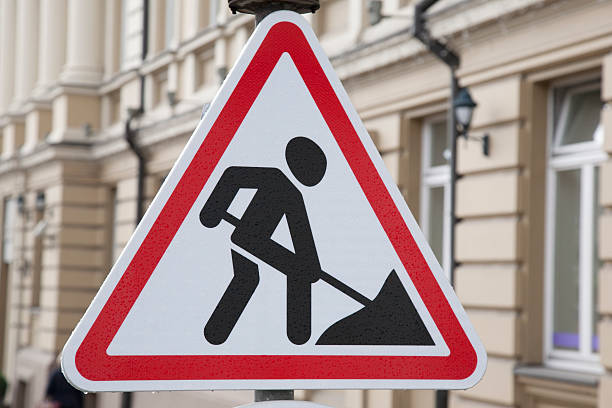yol_calismasi_levha: (58, 9, 489, 395)
